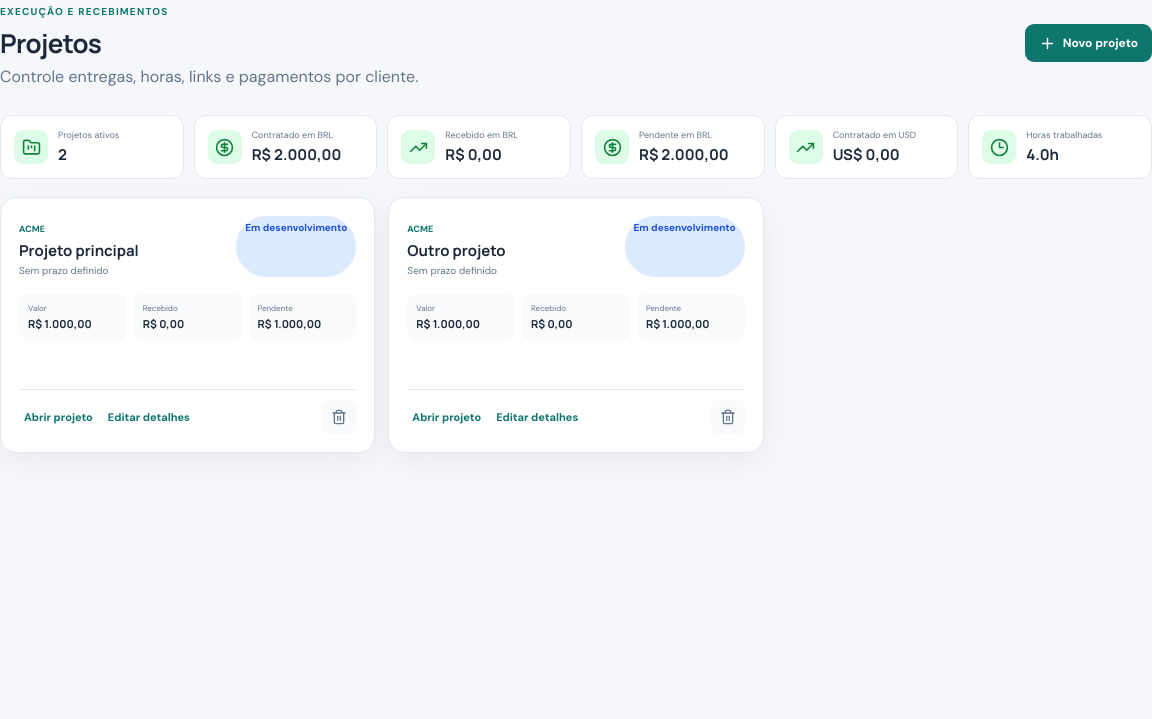
Test case: proteção de alterações não salvas no planejamento › protege tecnologia digitada e a inclui ao salvar mesmo antes de usar Adicionar
The image size is (1152, 719).
Click the button "Abrir projeto" below "Projeto principal" at (58, 417), box [19,405,98,429]
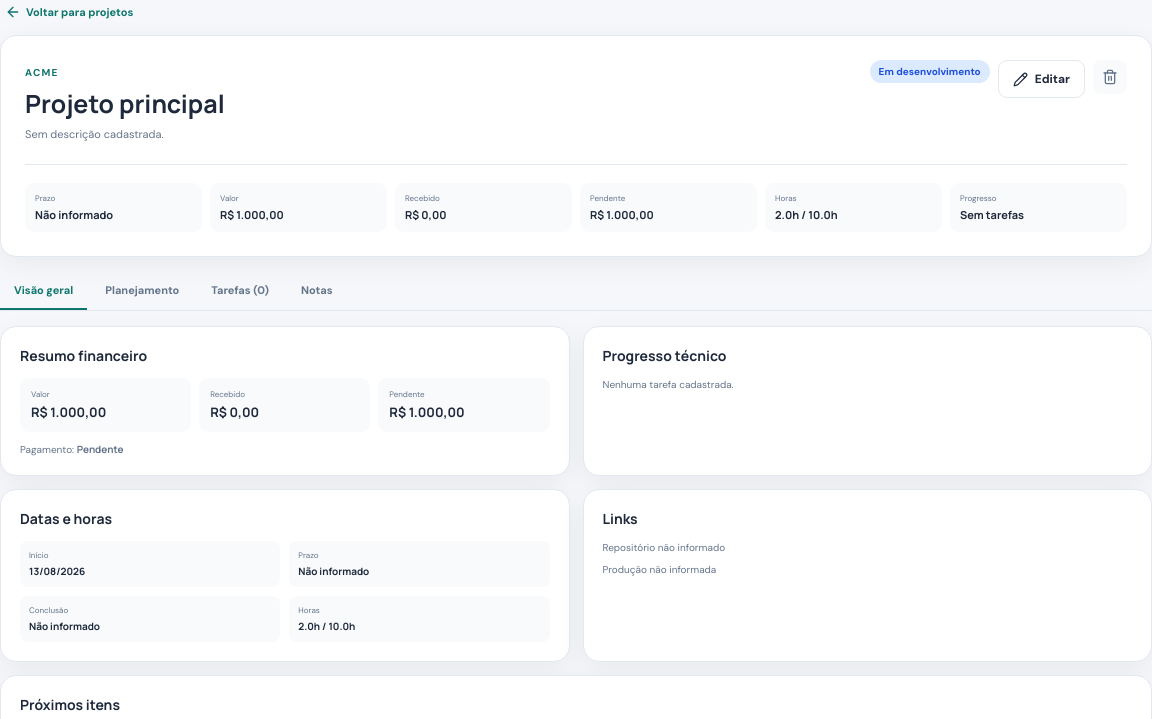
Click the tab "Planejamento" at (142, 291), box [91,272,193,310]
(page scrolled)
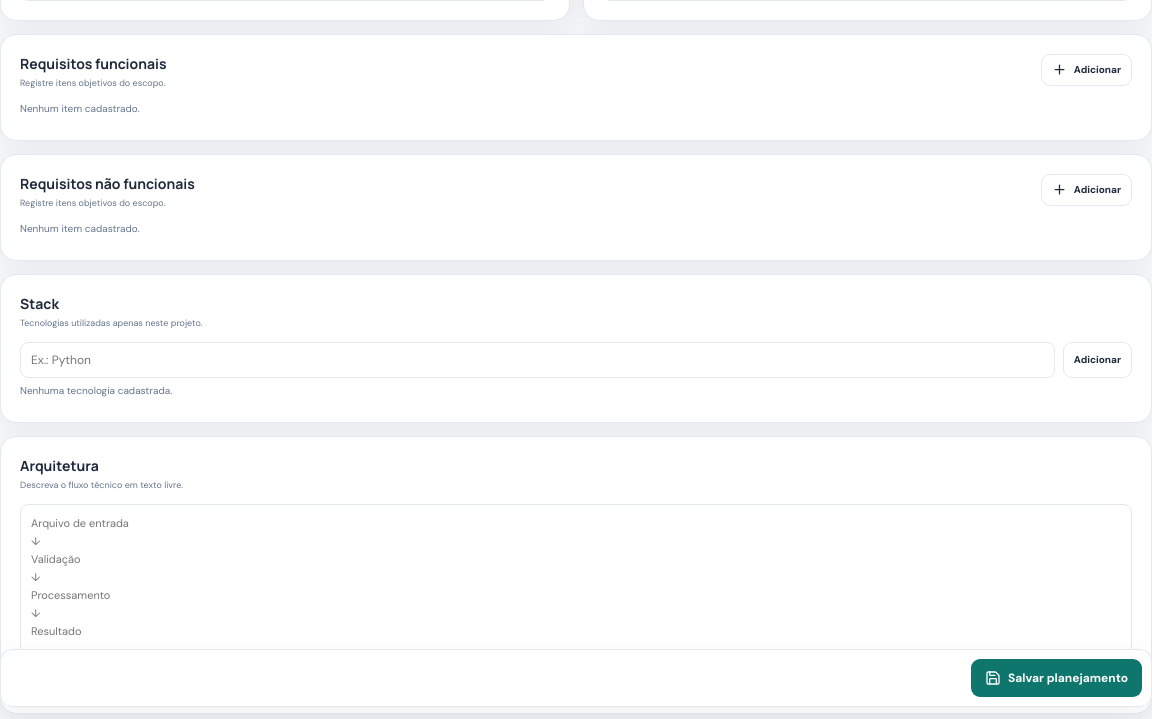
Type "Python" into the field named "Nova tecnologia" at (537, 360), box [20,342,1055,378]
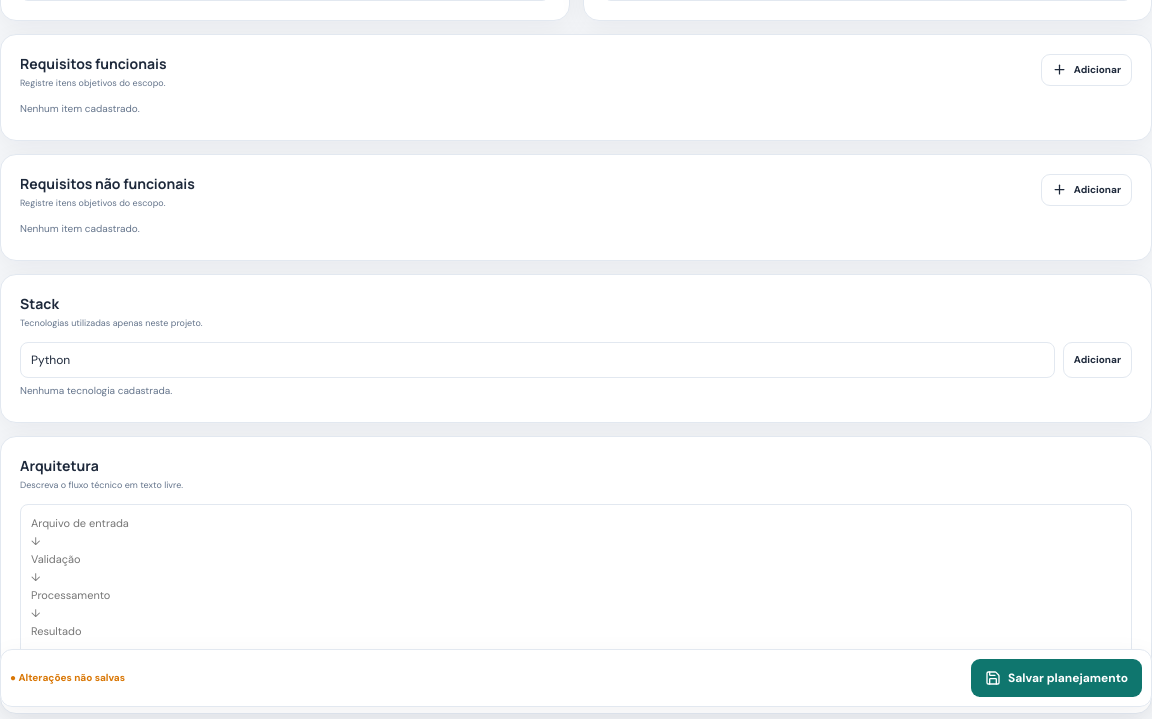
Check: the text "● Alterações não salvas" is shown, box [10,672,125,684]
Click the button "Salvar planejamento" at (1056, 678), box [971,659,1142,697]
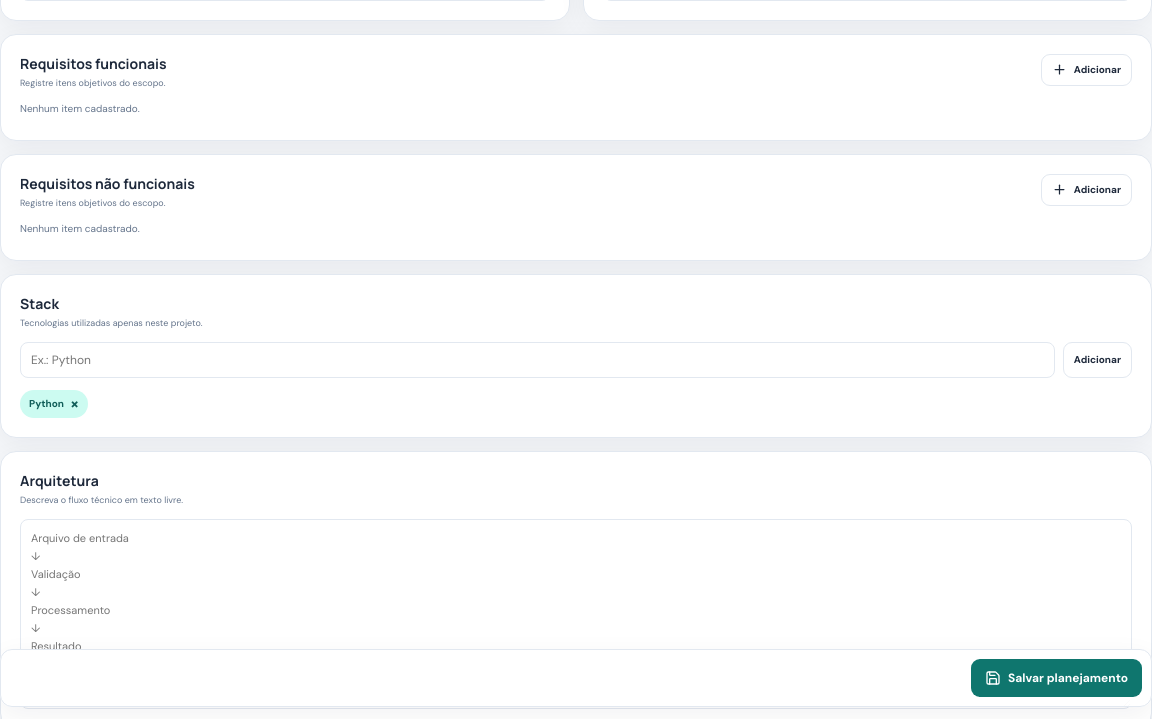
Check: the text "● Alterações não salvas" is gone
